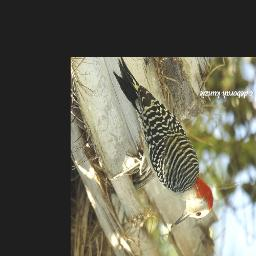Woodpecker: (112, 57, 217, 226)
